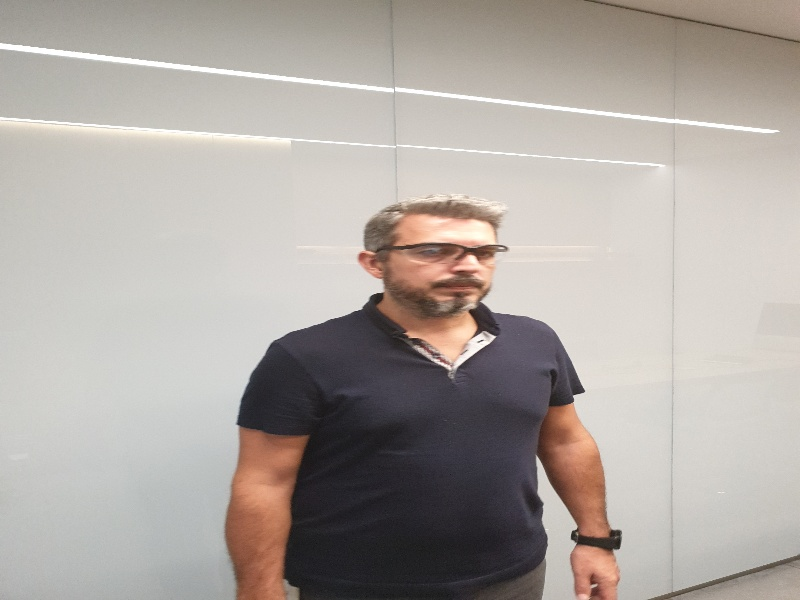Gozluk: (378, 243, 510, 264)
